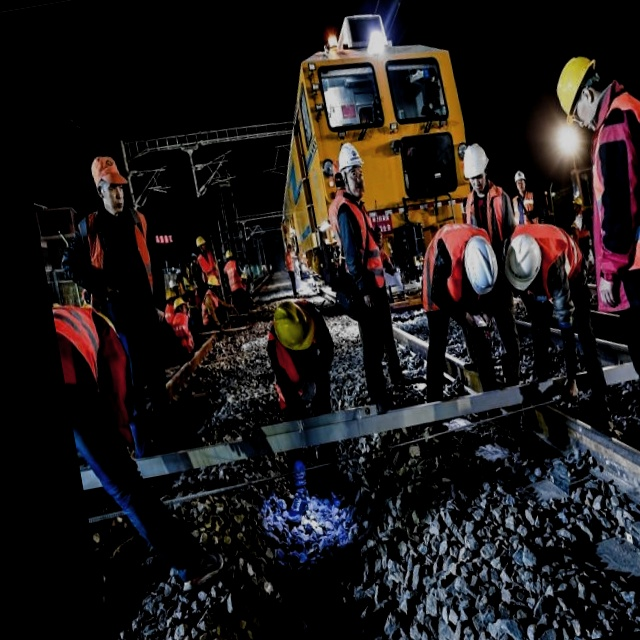Con_Casco: (551, 52, 607, 137), (459, 228, 503, 298), (499, 229, 546, 294), (272, 297, 319, 360), (457, 142, 494, 199), (335, 140, 367, 199)
Con_Chaleco: (73, 202, 168, 330), (576, 96, 640, 277), (326, 194, 388, 301)
Sin_Casco_Mascarrilla: (87, 151, 131, 213)
